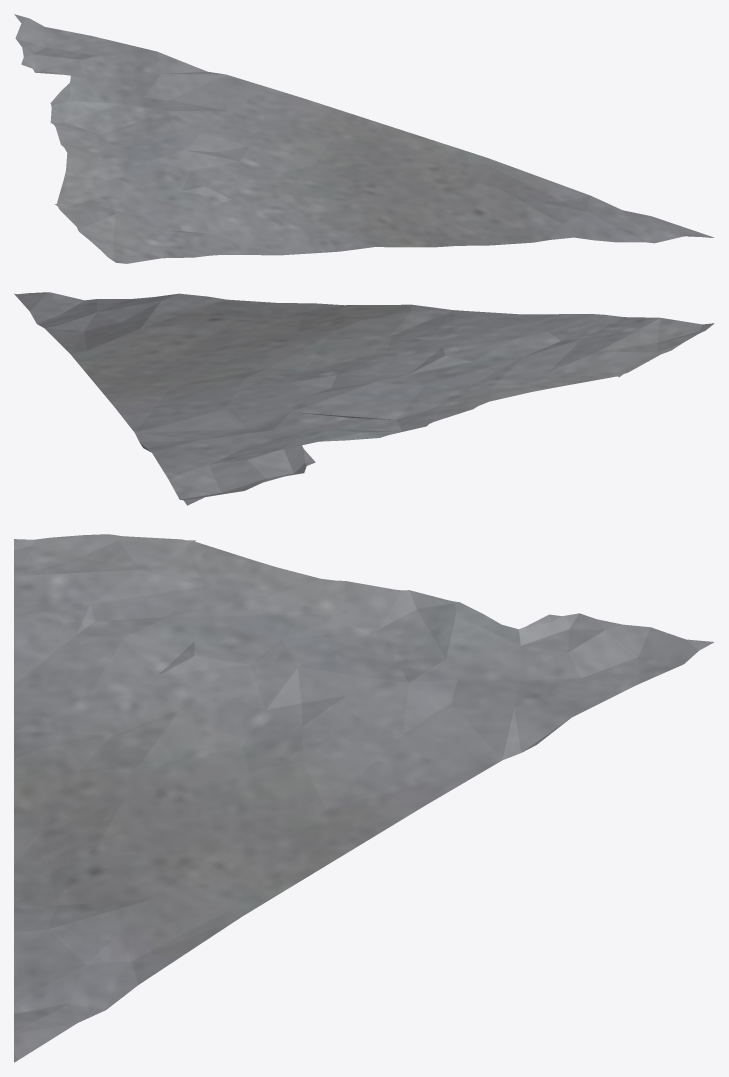
3 renders of one model, top to bottom at view 1: azimuth 30°, elevation 25°; view 2: azimuth 150°, elevation 25°; view 3: azimuth 270°, elevation 25°, orthographic. The views are drawn at different scales.
Bounding box in the file's own units: 2.65 × 0.5272 × 2.12.
1 material, 1 textured.
